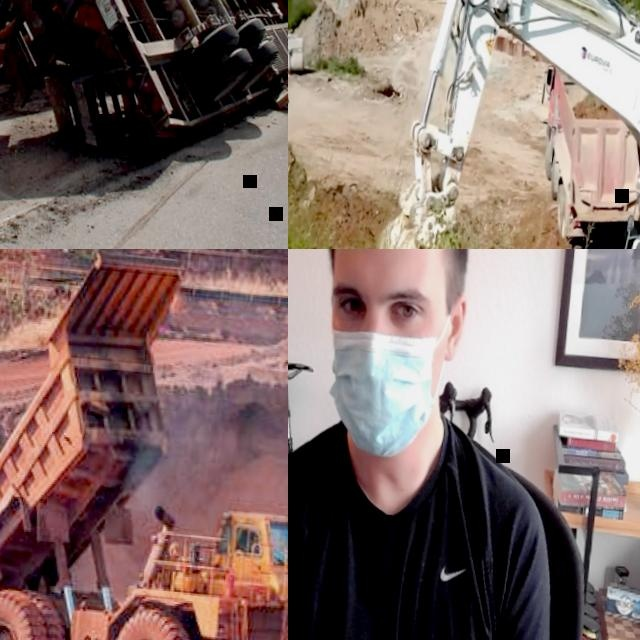Mask: (320, 302, 452, 459)
NO-Safety Vest: (288, 409, 501, 640)
Person: (288, 249, 593, 640)
machinery: (0, 249, 288, 640), (364, 0, 640, 249), (0, 0, 288, 161), (527, 60, 640, 249)
